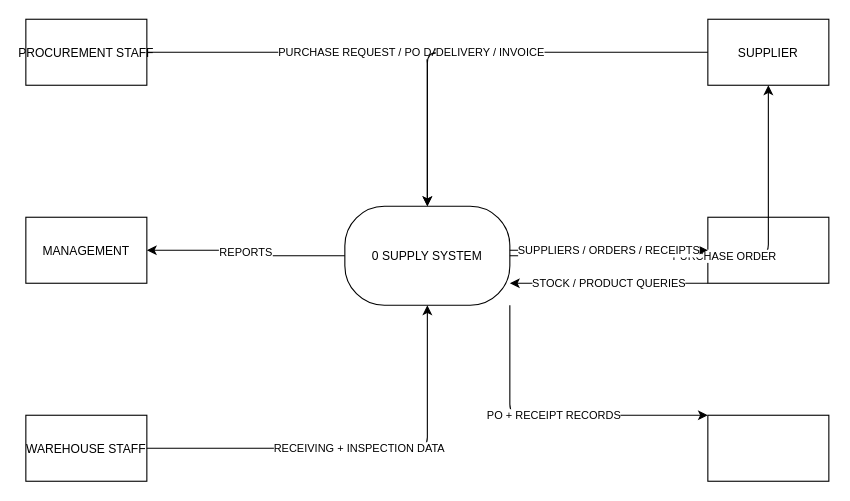
Some shapes in this 850 by 501 pixel diagram are drawn without their labels. The centre of each missing label's shape, as x and y in pixels:
"FINANCE" belongs at pixel 768 447.
"INVENTORY MODULE" belongs at pixel 768 249.
